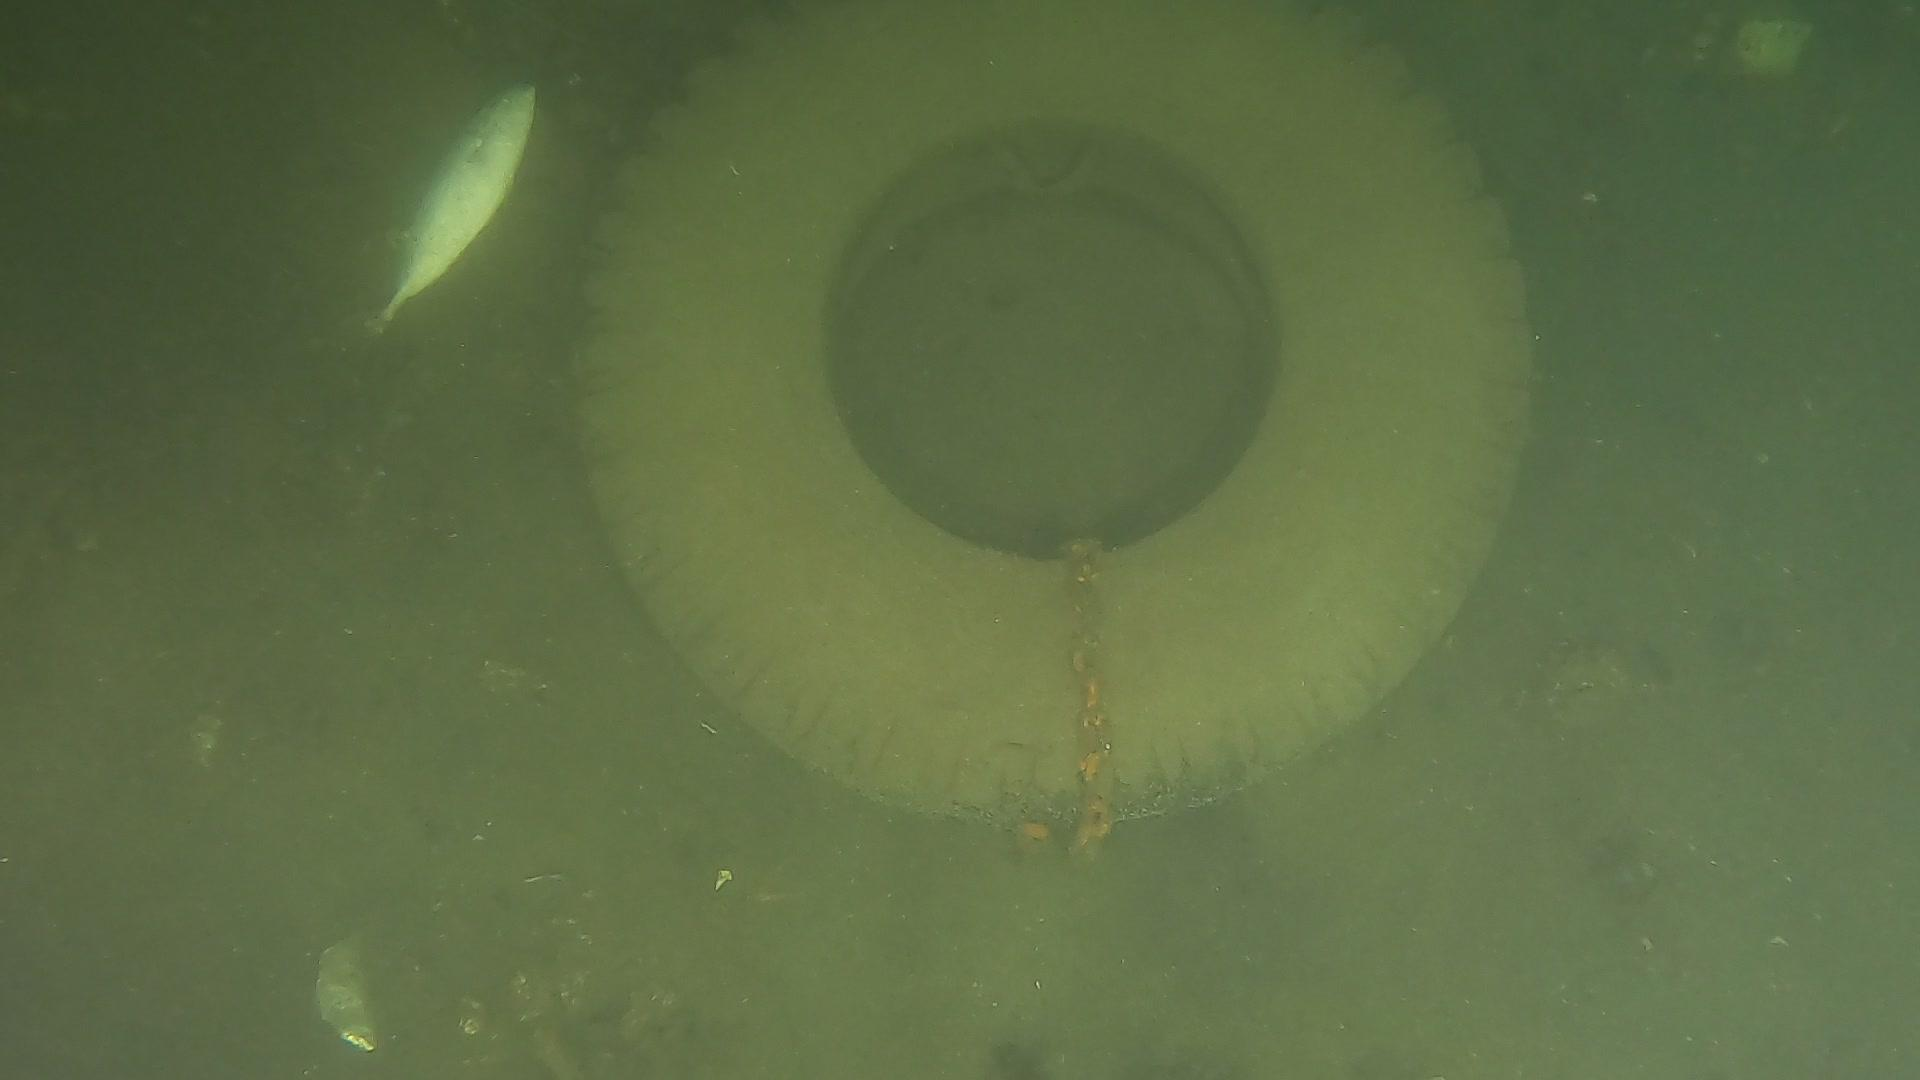tire: (567, 5, 1535, 828)
